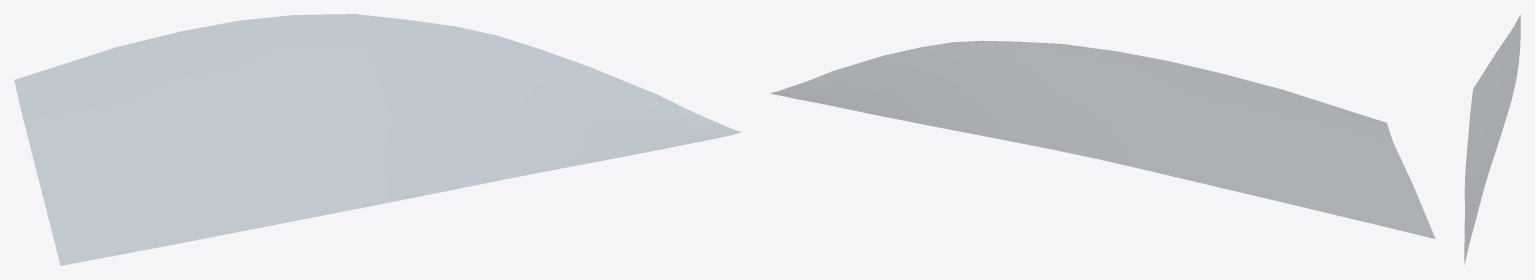
3 views of the same model, side by side, from view 1: azimuth 30°, elevation 25°; view 2: azimuth 150°, elevation 25°; view 3: azimuth 270°, elevation 25° (orthographic). The views are drawn at different scales.
Visible parts, largest first — view 1: SM_MercedesCCC_Door_FR_Glass_Int2; view 2: SM_MercedesCCC_Door_FR_Glass_Int2; view 3: SM_MercedesCCC_Door_FR_Glass_Int2.
Part boxes in pixels (x1,y1,x2,y2): SM_MercedesCCC_Door_FR_Glass_Int2: (14,14,740,265); SM_MercedesCCC_Door_FR_Glass_Int2: (771,41,1435,238); SM_MercedesCCC_Door_FR_Glass_Int2: (1464,15,1520,262).
Size of the model in its own units: 1.17 by 0.3061 by 0.1699.
